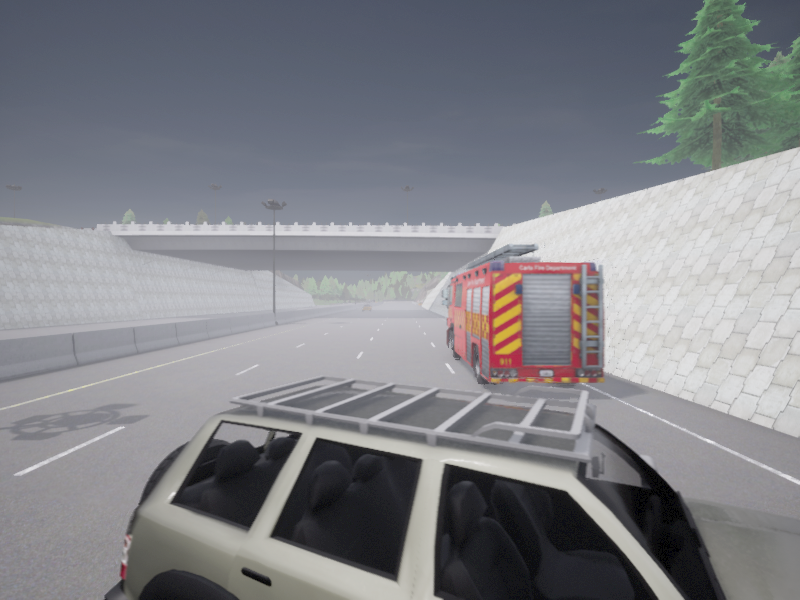vehicle: (104, 375, 799, 599), (442, 244, 604, 384), (363, 304, 371, 310)
